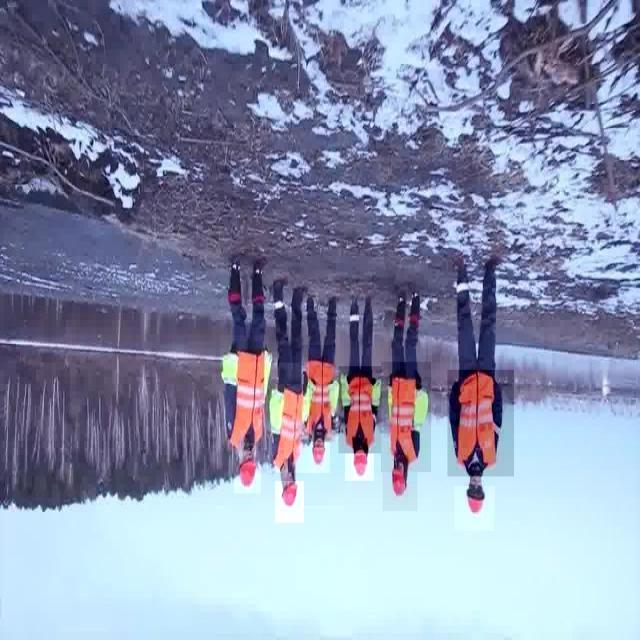Helmet: (454, 486, 494, 531), (382, 461, 418, 511), (275, 481, 304, 523), (234, 448, 261, 493), (345, 443, 374, 481), (306, 432, 330, 473)
Safety Vest: (448, 370, 514, 476), (220, 335, 269, 451), (381, 362, 431, 472), (267, 363, 309, 473), (338, 366, 382, 454), (301, 345, 335, 442)
